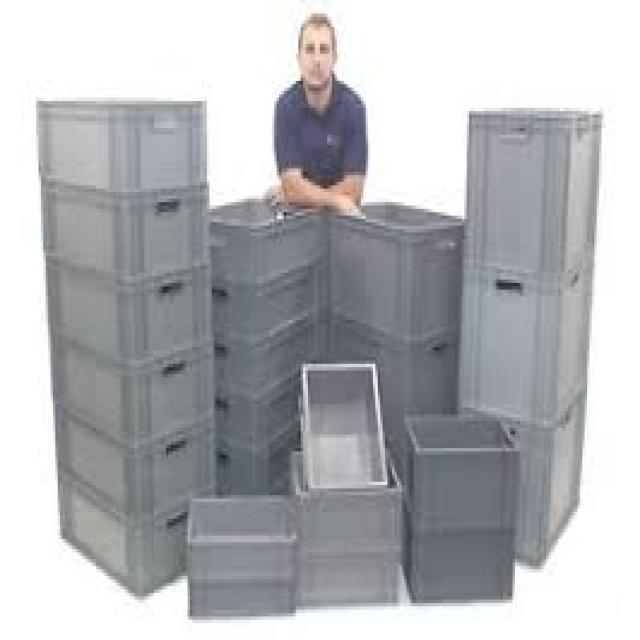basket: (37, 98, 216, 596), (210, 202, 461, 495), (445, 109, 604, 569), (407, 414, 520, 603), (38, 101, 207, 192), (300, 488, 404, 606), (303, 364, 390, 490), (190, 536, 298, 620), (190, 499, 296, 539)
